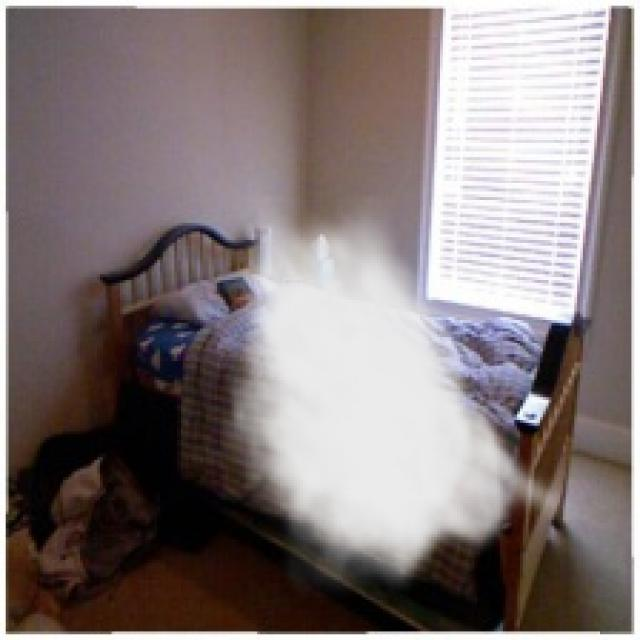smoke: (220, 192, 580, 597)
